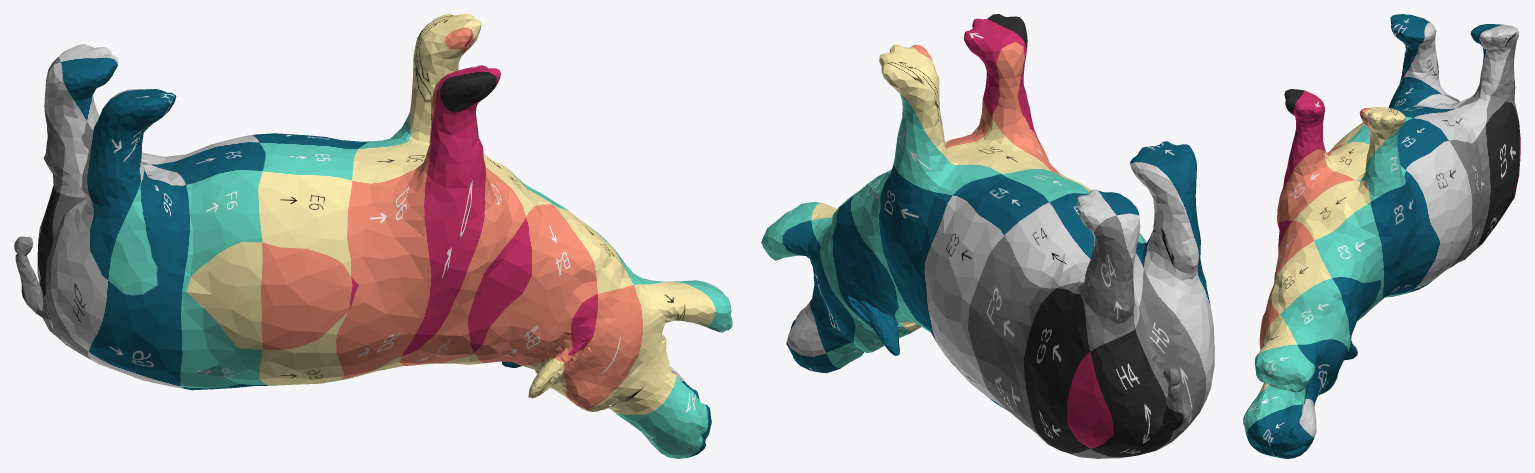
File: hippo_02-hippo_05.obj
The picture shows the model from 3 angles, left to right: view 1: azimuth 30°, elevation 25°; view 2: azimuth 150°, elevation 25°; view 3: azimuth 270°, elevation 25°; orthographic projection. The views are drawn at different scales.
Parts seen in each view (by area): view 1: hippo_02-hippo_05_export; view 2: hippo_02-hippo_05_export; view 3: hippo_02-hippo_05_export.
Part boxes in pixels (x1,y1,x2,y2): hippo_02-hippo_05_export: (14,14,732,458); hippo_02-hippo_05_export: (761,14,1214,458); hippo_02-hippo_05_export: (1243,14,1520,458).
Size of the model in its own units: 0.8678 by 0.6137 by 0.521.
